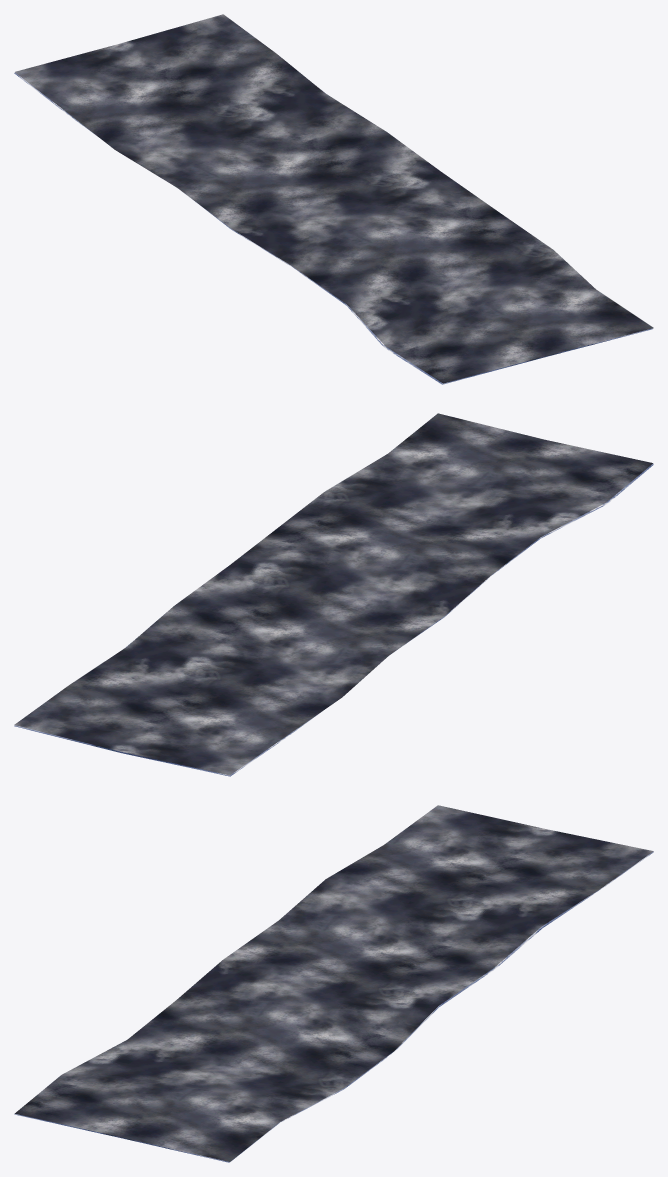
The model's file is LONE_MOUNTAIN_WATERFALLS_MAIN_WATER_GEARS01.fbx.
3 views of the same model, one above another, from view 1: azimuth 30°, elevation 25°; view 2: azimuth 150°, elevation 25°; view 3: azimuth 330°, elevation 25° (orthographic).
Parts seen in each view (by area): view 1: LONE_MOUNTAIN_WATERFALLS_MAIN_WATER_GEARS01; view 2: LONE_MOUNTAIN_WATERFALLS_MAIN_WATER_GEARS01; view 3: LONE_MOUNTAIN_WATERFALLS_MAIN_WATER_GEARS01.
Part boxes in pixels (x1,y1,x2,y2): LONE_MOUNTAIN_WATERFALLS_MAIN_WATER_GEARS01: [14, 14, 653, 384]; LONE_MOUNTAIN_WATERFALLS_MAIN_WATER_GEARS01: [14, 413, 653, 776]; LONE_MOUNTAIN_WATERFALLS_MAIN_WATER_GEARS01: [14, 805, 653, 1162].
Bounding box in the file's own units: 49897 × 1777 × 163724.
2 materials, 2 textured.
